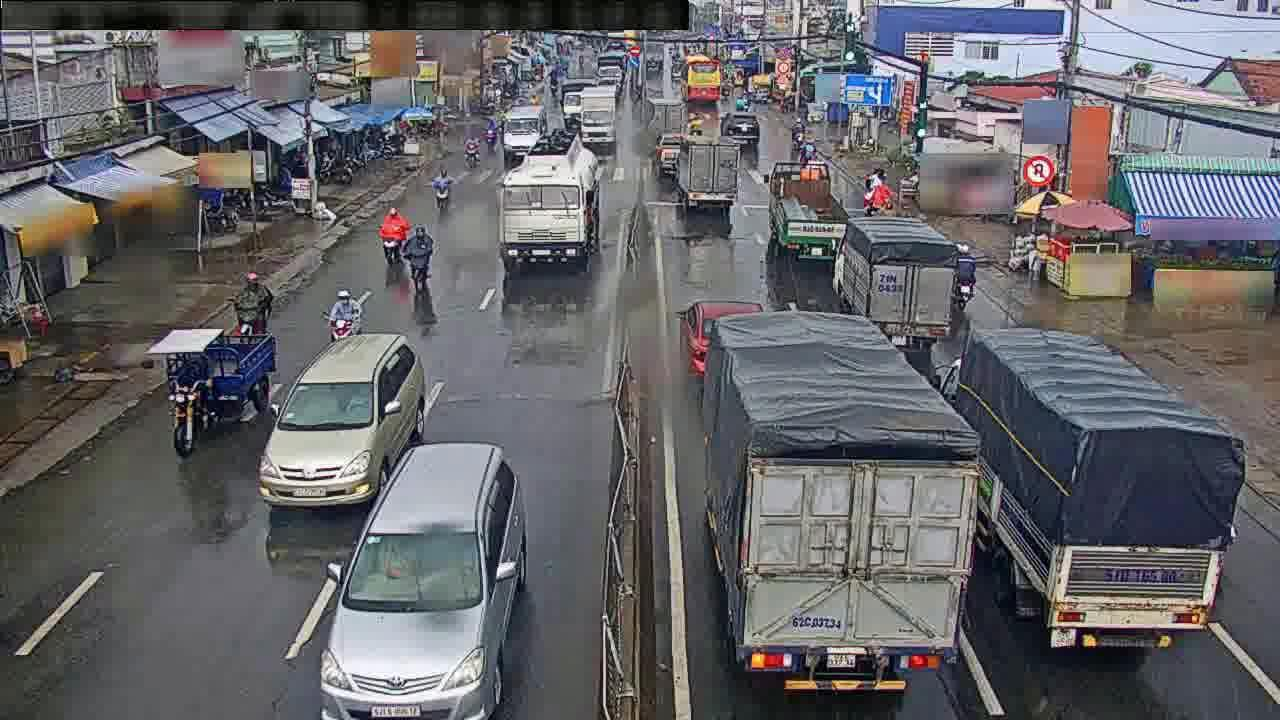car: (292, 464, 531, 699), (242, 332, 427, 516), (773, 161, 844, 258), (680, 300, 729, 371), (502, 121, 547, 161), (725, 105, 761, 140)
container: (716, 308, 973, 718), (974, 336, 1217, 647), (833, 220, 949, 338), (507, 134, 599, 281)
motorbike: (231, 273, 275, 351), (323, 286, 362, 356), (398, 227, 434, 298), (946, 247, 980, 303), (378, 206, 410, 261), (860, 171, 890, 219), (652, 135, 680, 175), (430, 162, 454, 208), (461, 127, 484, 164), (803, 146, 828, 180), (792, 126, 814, 159)
